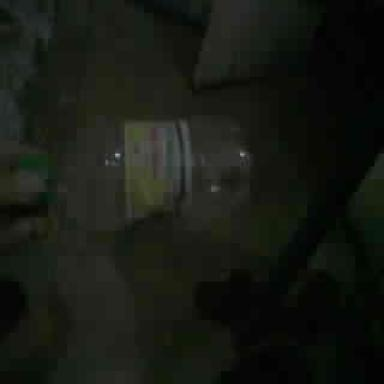bottle: (72, 118, 251, 229)
